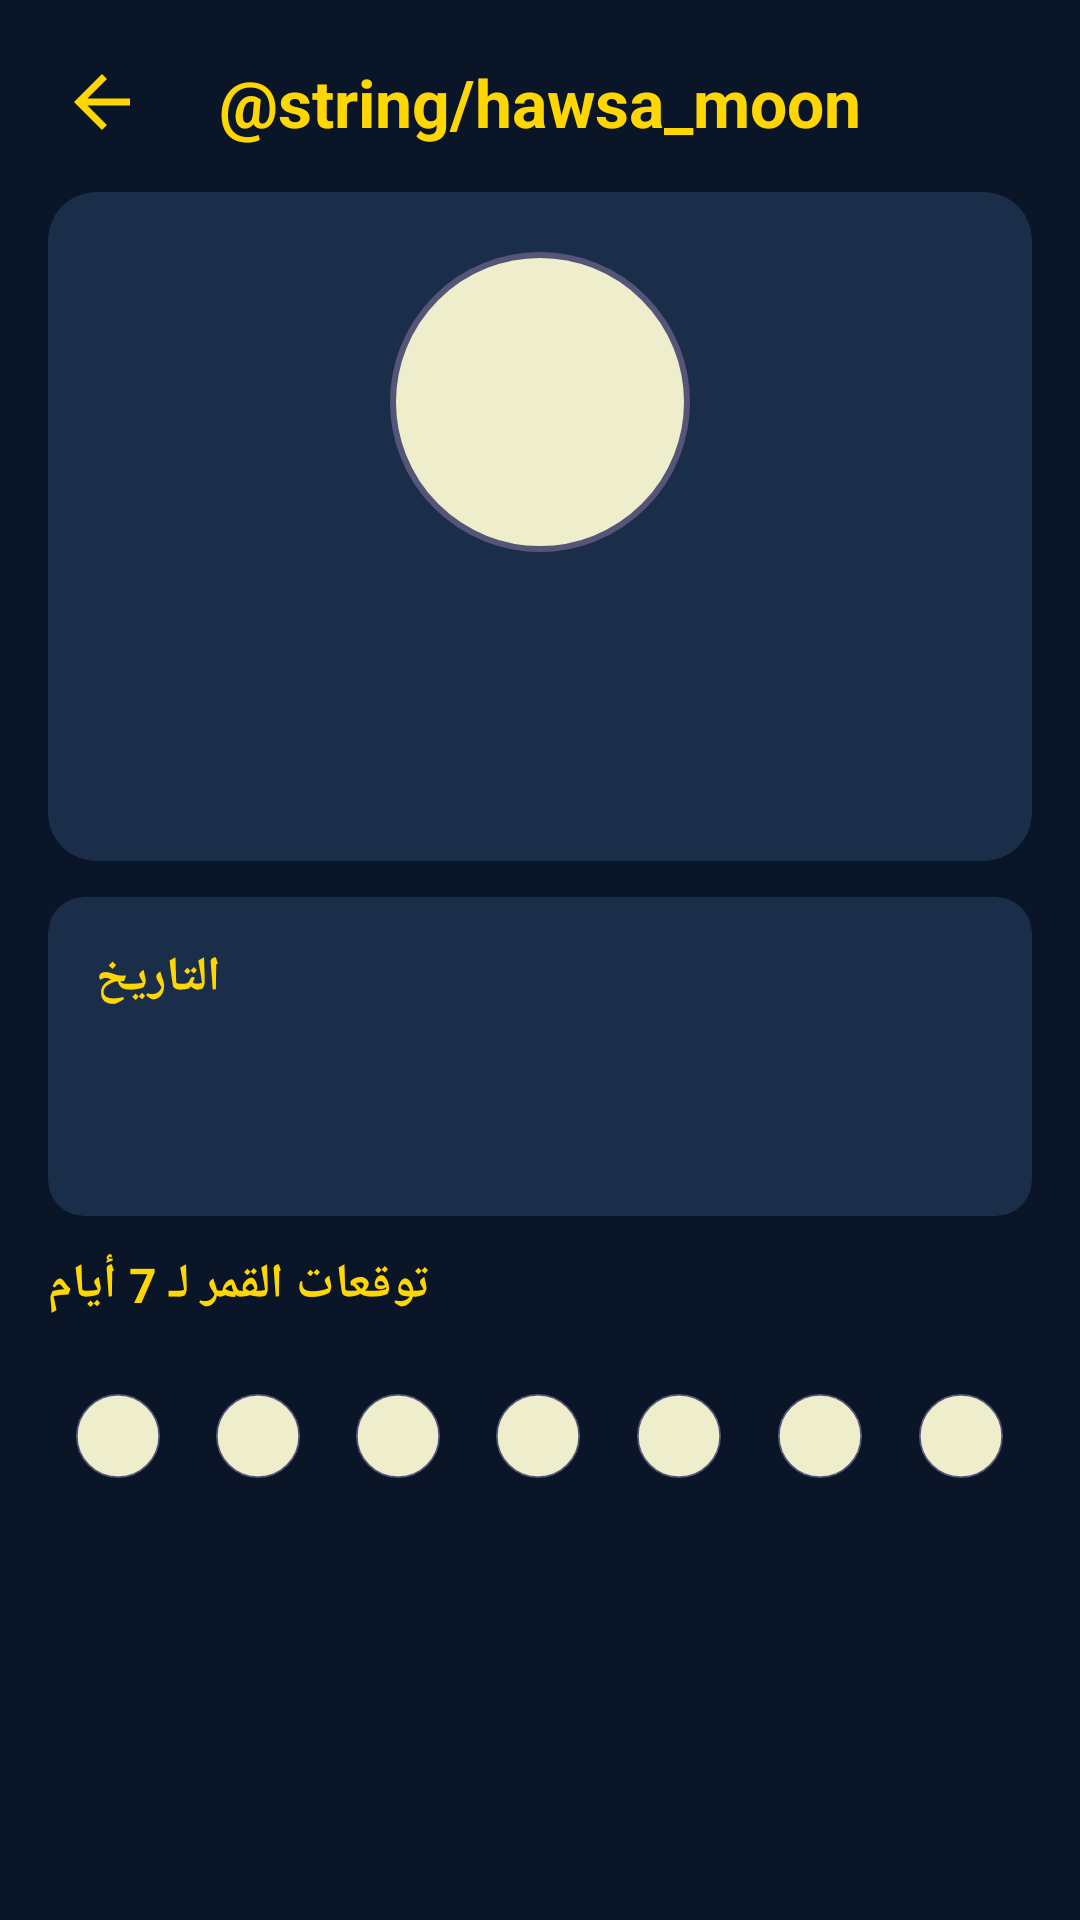

Named icons in this screenshot (1080×1920) and their bounding boxes, box=[x1, y1, x2, y2]:
Back: box=[74, 74, 130, 130]
Moon phase: box=[390, 252, 690, 552]
